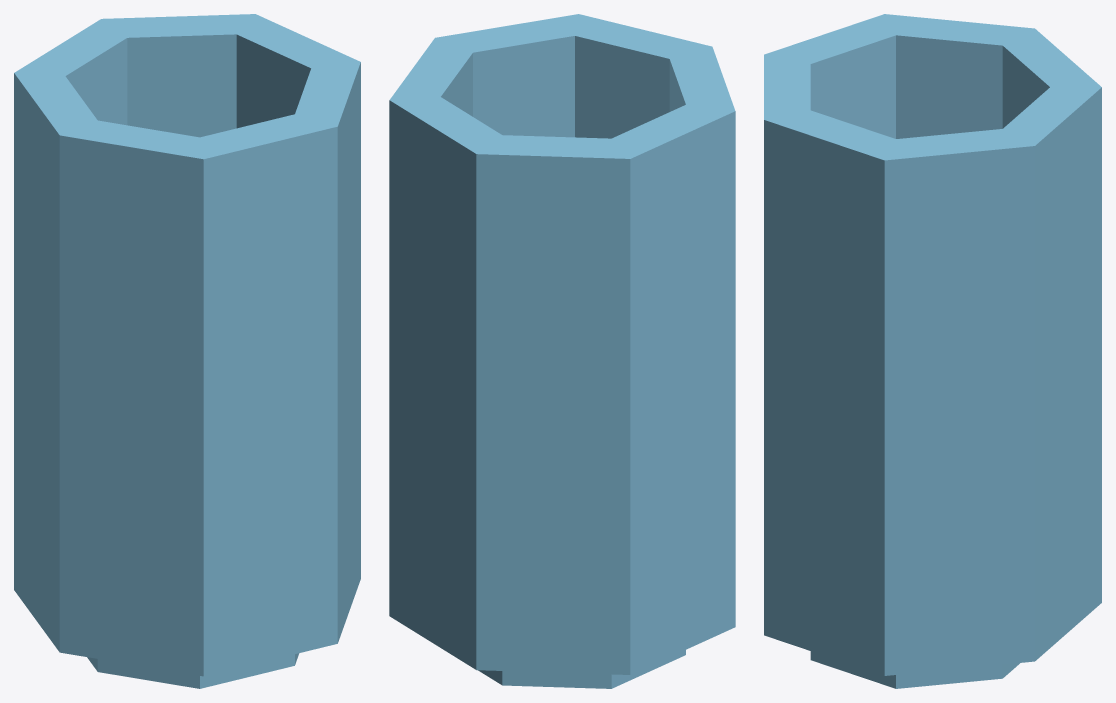
Rendered from Glass.fbx.
The picture shows the model from 3 angles, left to right: view 1: azimuth 30°, elevation 25°; view 2: azimuth 150°, elevation 25°; view 3: azimuth 270°, elevation 25°; orthographic projection.
Visible parts, largest first — view 1: Glass; view 2: Glass; view 3: Glass.
Part boxes in pixels (box(x1,y1,x2,y2)): Glass: box(14, 14, 360, 688); Glass: box(389, 14, 735, 688); Glass: box(764, 14, 1101, 688).
Size of the model in its own units: 20.47 by 35.83 by 19.96.
